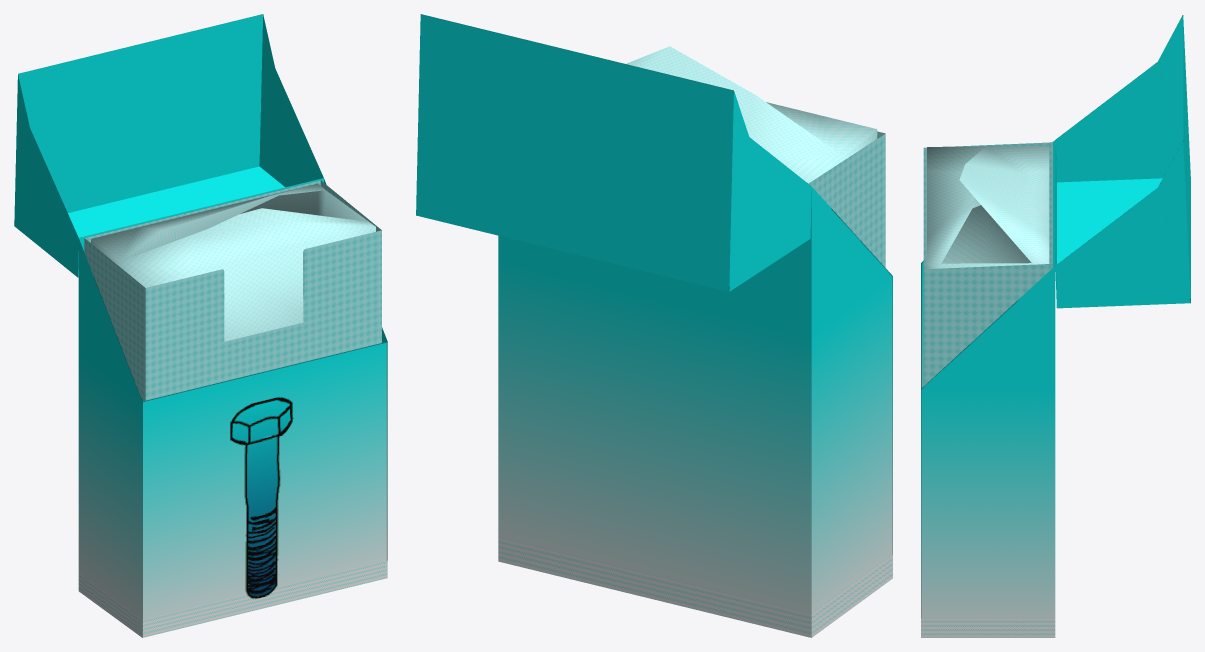
File: пачка_реимп3.fbx
The picture shows the model from 3 angles, left to right: view 1: azimuth 30°, elevation 25°; view 2: azimuth 150°, elevation 25°; view 3: azimuth 270°, elevation 25°; orthographic projection. The views are drawn at different scales.
Visible parts, largest first — view 1: Пачка; view 2: Пачка; view 3: Пачка.
Part boxes in pixels (x1,y1,x2,y2): Пачка: (14,14,387,637); Пачка: (416,14,892,637); Пачка: (921,15,1190,637).
Bounding box in the file's own units: 6 × 5.43 × 11.06.
Materials: 1 (1 with a texture image).
